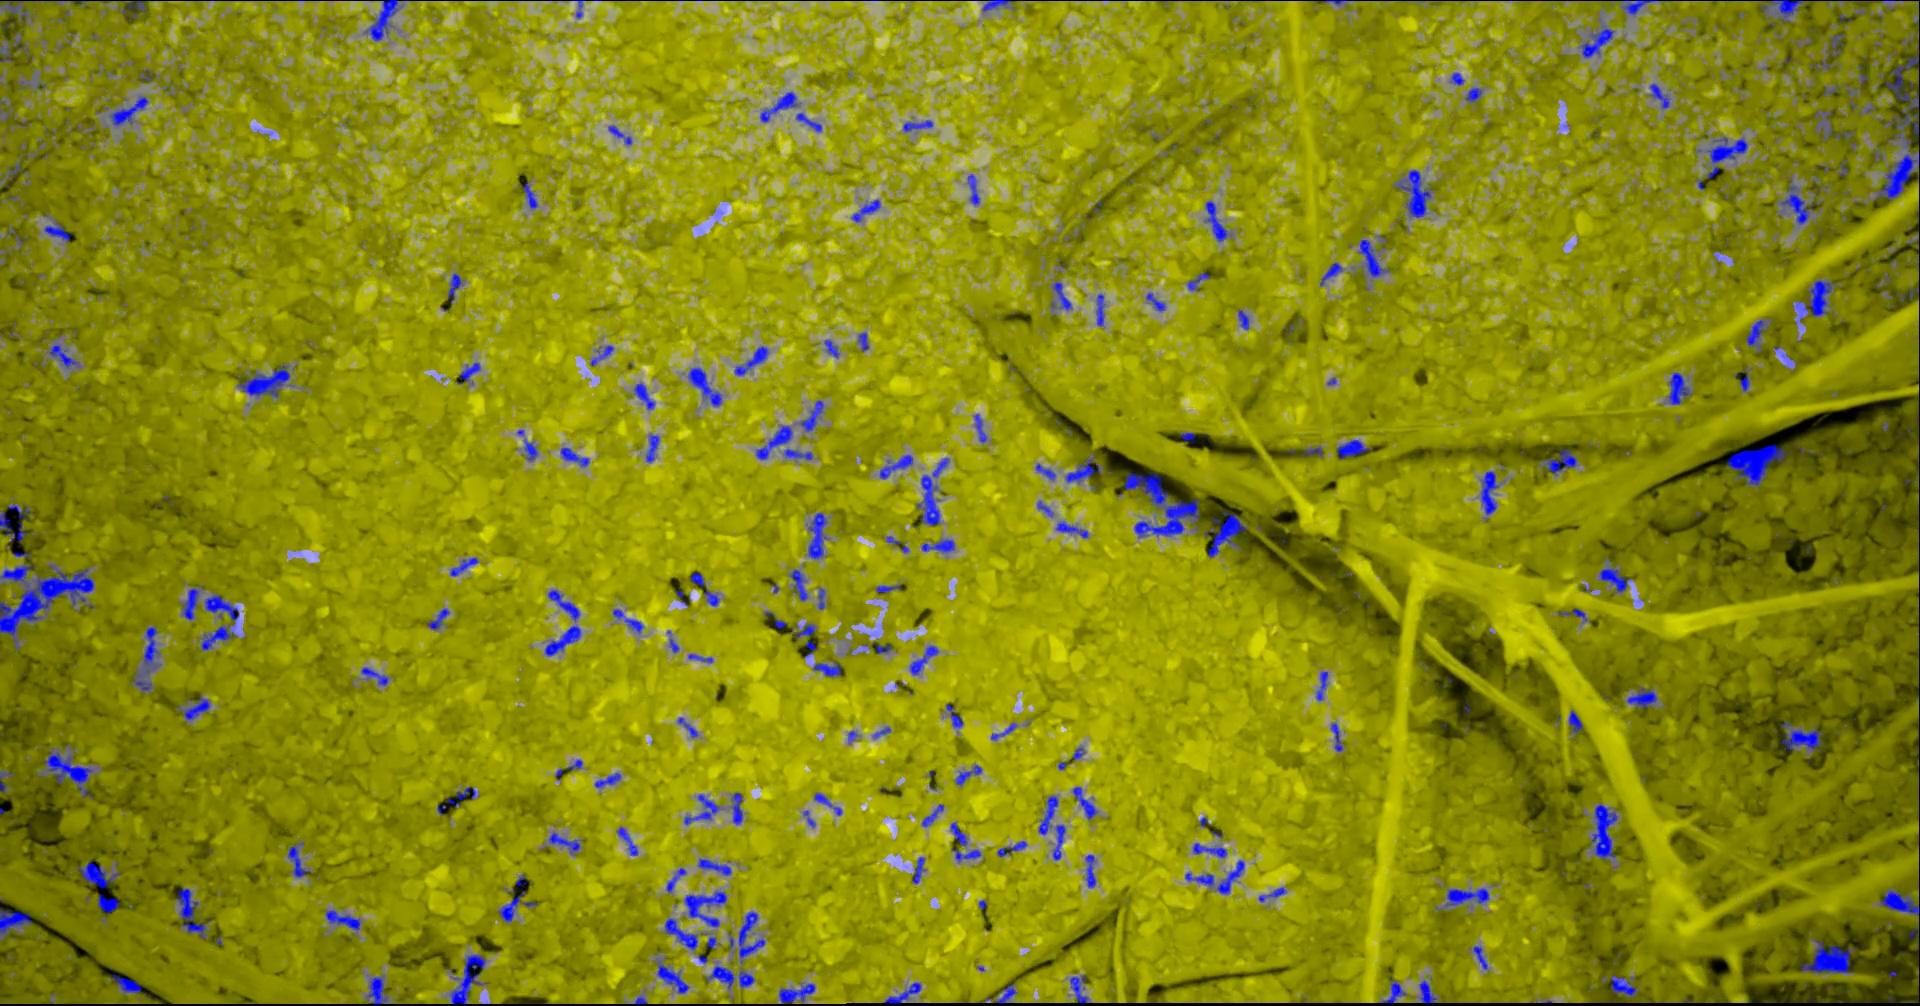ant: (543, 589, 582, 655), (43, 749, 93, 796), (916, 457, 949, 525), (1183, 859, 1244, 894), (201, 594, 237, 650), (1203, 511, 1246, 558), (1799, 937, 1855, 973), (1780, 178, 1821, 224), (1393, 169, 1431, 217), (132, 626, 160, 691), (1037, 795, 1065, 860), (450, 954, 485, 1005), (1705, 136, 1747, 178), (237, 365, 290, 398), (1589, 803, 1617, 859), (177, 887, 207, 937), (684, 890, 726, 926), (364, 0, 401, 39), (1796, 279, 1835, 316), (738, 911, 764, 963), (687, 367, 721, 406), (1780, 720, 1823, 751), (497, 890, 536, 922), (703, 965, 754, 989), (756, 426, 792, 459), (1357, 239, 1389, 277), (1759, 0, 1815, 22), (759, 91, 797, 122), (0, 503, 30, 541), (76, 861, 119, 888), (109, 97, 149, 126), (1601, 974, 1642, 1002), (657, 959, 688, 993), (683, 794, 719, 824), (664, 918, 697, 950), (0, 904, 30, 939), (733, 345, 768, 375), (1203, 199, 1227, 241), (1580, 27, 1613, 57), (1879, 889, 1919, 915), (1065, 456, 1103, 481), (1444, 887, 1490, 907), (1663, 371, 1691, 404), (1599, 564, 1630, 592), (1481, 470, 1498, 520), (1542, 448, 1576, 474), (883, 982, 921, 1005), (909, 645, 938, 674), (1072, 786, 1097, 819), (808, 512, 825, 558), (287, 841, 310, 876), (879, 453, 912, 478), (177, 695, 210, 719), (778, 983, 815, 1005), (794, 622, 817, 657), (612, 608, 643, 633), (325, 909, 361, 930), (182, 586, 203, 619), (1380, 976, 1404, 1005), (800, 400, 823, 431), (1625, 686, 1657, 708), (50, 344, 77, 368), (1745, 319, 1765, 352), (444, 786, 477, 807), (615, 826, 637, 855), (549, 832, 579, 854), (1336, 439, 1370, 459), (851, 199, 879, 222), (813, 793, 841, 815), (366, 976, 387, 1005), (697, 857, 731, 875), (954, 763, 982, 785), (1050, 281, 1070, 310), (112, 973, 141, 993), (1055, 521, 1088, 539), (789, 569, 808, 600), (122, 0, 149, 22), (560, 447, 589, 466), (1319, 262, 1342, 286), (992, 982, 1016, 1005), (632, 384, 654, 409), (0, 0, 27, 20), (43, 221, 70, 241), (1069, 974, 1087, 1005), (1895, 279, 1919, 301), (456, 362, 480, 384), (795, 112, 822, 131), (361, 666, 387, 685), (996, 840, 1026, 856), (1192, 842, 1225, 857), (1622, 0, 1657, 14), (450, 558, 477, 575), (427, 607, 450, 629), (921, 804, 943, 826), (1650, 83, 1669, 108), (1906, 231, 1919, 269), (990, 721, 1016, 741), (811, 661, 841, 677), (447, 273, 462, 304), (97, 893, 119, 913), (921, 539, 954, 553), (665, 868, 684, 892), (951, 847, 980, 862), (1822, 124, 1854, 138), (677, 716, 698, 737), (608, 124, 631, 144), (590, 345, 613, 365), (1186, 272, 1210, 290), (945, 702, 963, 727), (950, 821, 968, 845), (1418, 981, 1436, 1005), (522, 182, 537, 208), (645, 434, 659, 462), (1258, 887, 1286, 901), (594, 772, 620, 788), (886, 535, 908, 553), (982, 0, 1015, 11), (1827, 33, 1844, 56), (973, 413, 985, 442), (1558, 608, 1587, 621), (1330, 721, 1342, 751), (1472, 945, 1487, 969), (3, 161, 22, 180), (1145, 292, 1164, 311), (910, 857, 924, 883), (902, 119, 932, 131), (968, 174, 979, 205), (861, 641, 891, 653), (1084, 854, 1095, 887), (1316, 671, 1327, 700), (731, 793, 742, 824), (1568, 710, 1582, 733), (1035, 464, 1055, 479), (523, 438, 537, 460), (0, 768, 13, 791), (783, 448, 811, 459), (823, 339, 838, 357), (1810, 58, 1830, 71), (1096, 293, 1103, 326), (1036, 500, 1053, 516), (703, 589, 719, 606), (1907, 923, 1919, 945), (1738, 367, 1749, 391), (1465, 86, 1481, 102), (1237, 309, 1248, 329), (1299, 446, 1322, 456), (687, 653, 712, 662), (857, 332, 869, 351), (690, 572, 705, 586), (875, 584, 900, 592), (0, 44, 11, 61), (138, 69, 152, 81), (1072, 746, 1084, 760), (1178, 432, 1194, 443), (1837, 159, 1848, 175), (817, 587, 824, 608), (1451, 72, 1464, 85)
